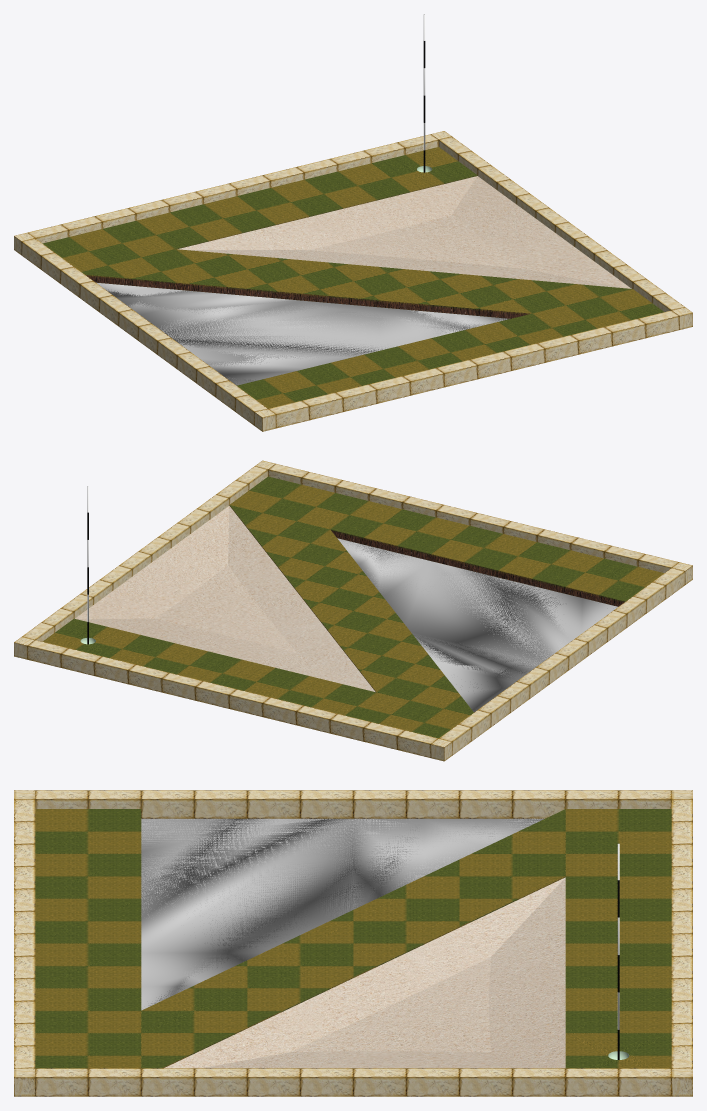
3 views of the same model, one above another, from view 1: azimuth 30°, elevation 25°; view 2: azimuth 150°, elevation 25°; view 3: azimuth 270°, elevation 25° (orthographic). The views are drawn at different scales.
Parts seen in each view (by area): view 1: grassland, bunker, pool, brick2, brick1, square; view 2: grassland, bunker, pool, brick2, brick1, square; view 3: grassland, pool, bunker, brick1, brick2, square, flagstick.
Boxes of the visible parts, x1,y1,x2,y2 form: grassland: (42,147,663,408); bunker: (178,176,631,288); pool: (96,282,510,385); brick2: (28,134,679,428); brick1: (21,136,684,425); square: (14,131,692,431); grassland: (42,476,663,738); bunker: (75,505,375,691); pool: (337,538,617,712); brick2: (27,464,679,757); brick1: (22,466,685,755); square: (14,460,692,761); grassland: (35,809,671,1068); pool: (141,818,544,1010); bunker: (164,877,565,1068); brick1: (35,790,671,1096); brick2: (14,799,692,1068); square: (14,790,692,1096); flagstick: (617,843,619,1059).
Bounding box in the file's own units: 64 × 23 × 64.
